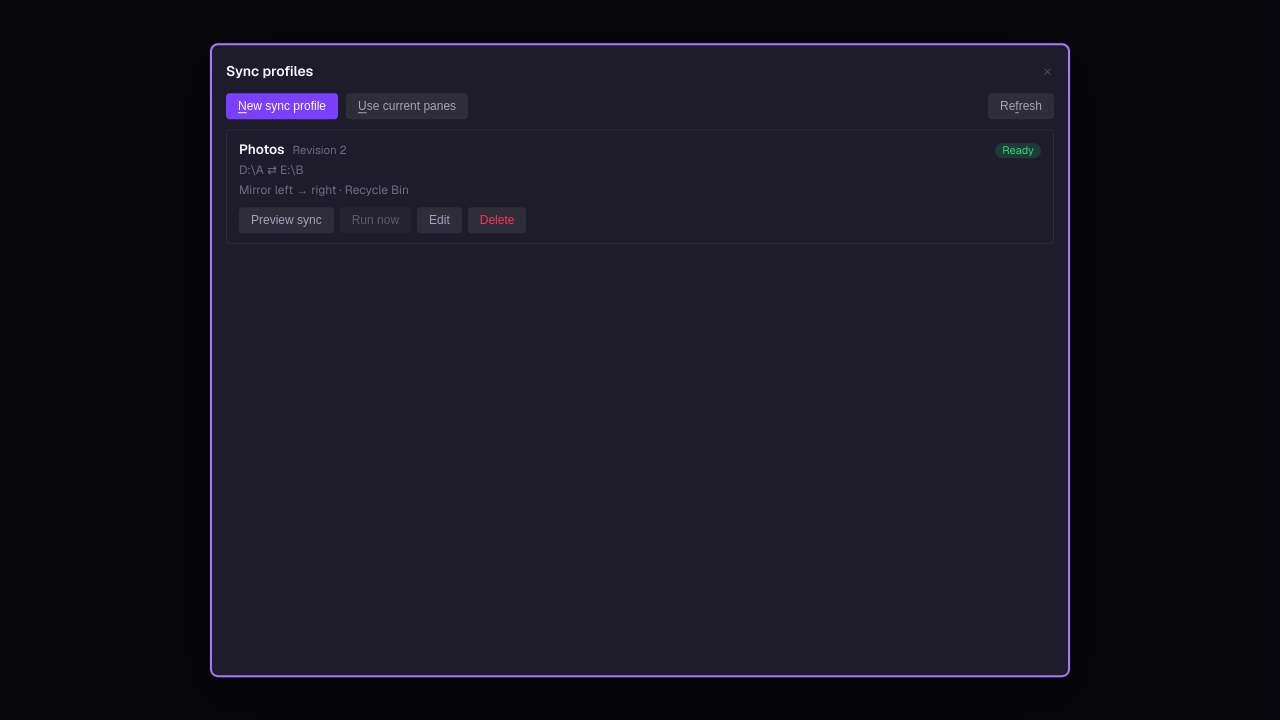
Test case: SyncProfilesPage › shows the stale-run message and keeps the user informed when a dialog is canceled
Expected: the text "Photos" is shown, [239,140,284,158]
Click the button "Preview sync": click(286, 220) [239,207,334,233]
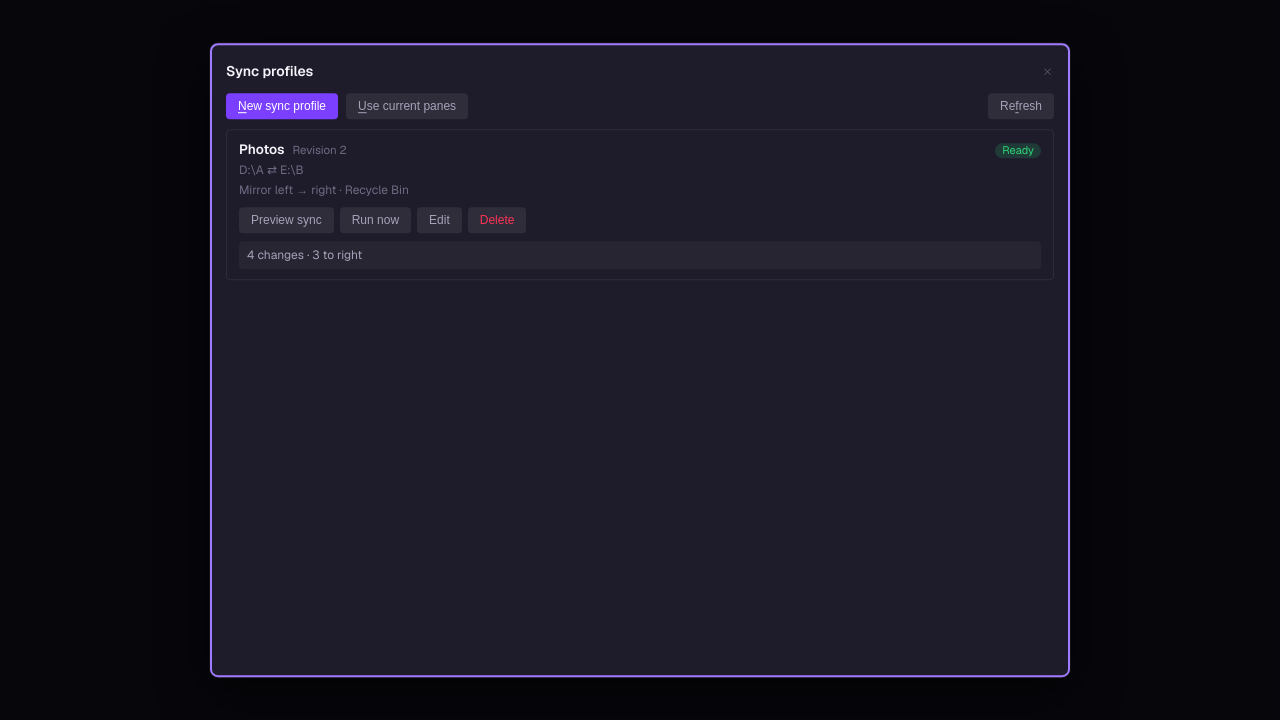
Result: the text "4 changes · 3 to right" is shown at [247,247,362,263]
Click the button "Run now": click(375, 220) [340,207,411,233]
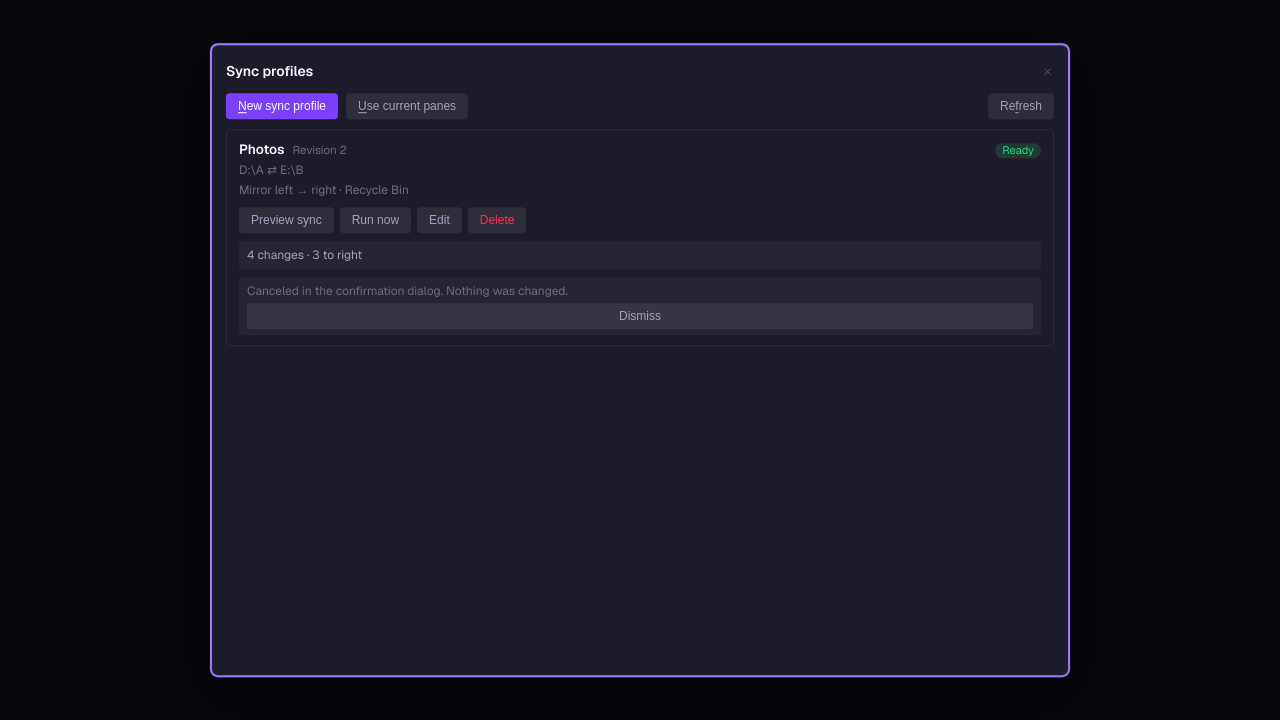
Result: the text "Canceled in the confirmation dialog. Nothing was changed." is shown at [247,283,568,299]
